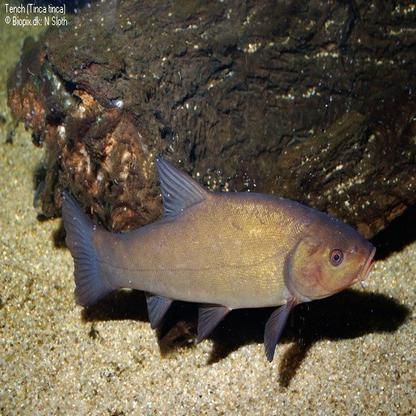fish: (59, 157, 377, 360)
